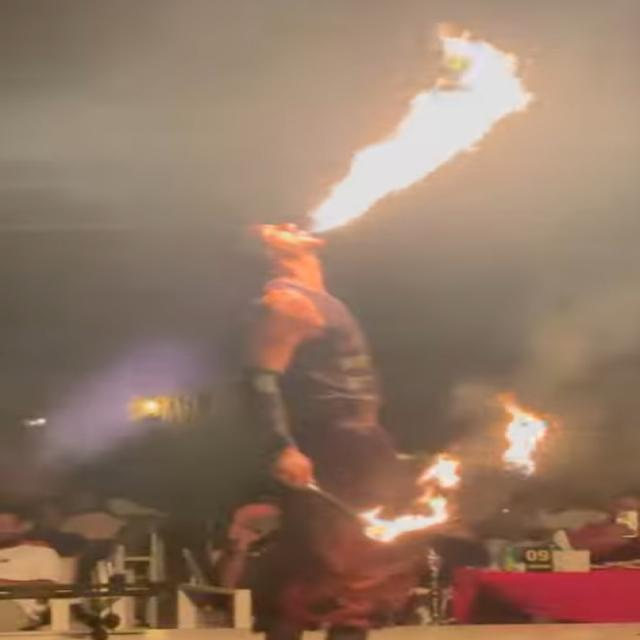fire: (307, 22, 535, 233), (357, 494, 451, 543), (500, 392, 550, 480), (415, 452, 461, 503)
